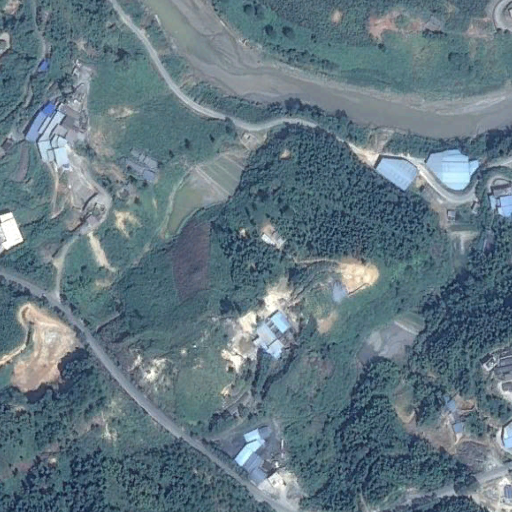tp: (162, 145, 247, 243)
